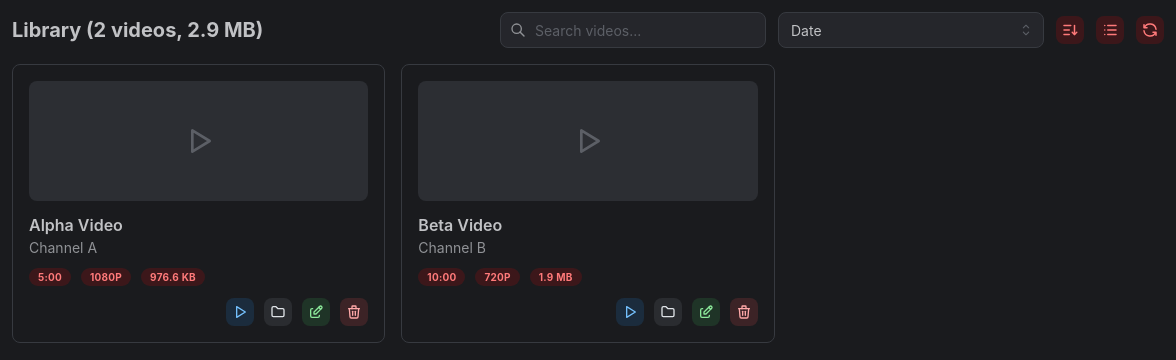
LibraryPage › filters videos when typing in the search input
The width and height of the screenshot is (1176, 360).
Expected: the text "Alpha Video" is shown, 29,215 -> 123,235
Expected: the text "Beta Video" is shown, 418,215 -> 502,235
Type "alpha" into the field with placeholder "Search videos..." at point(633, 30), box 500,12 -> 766,48
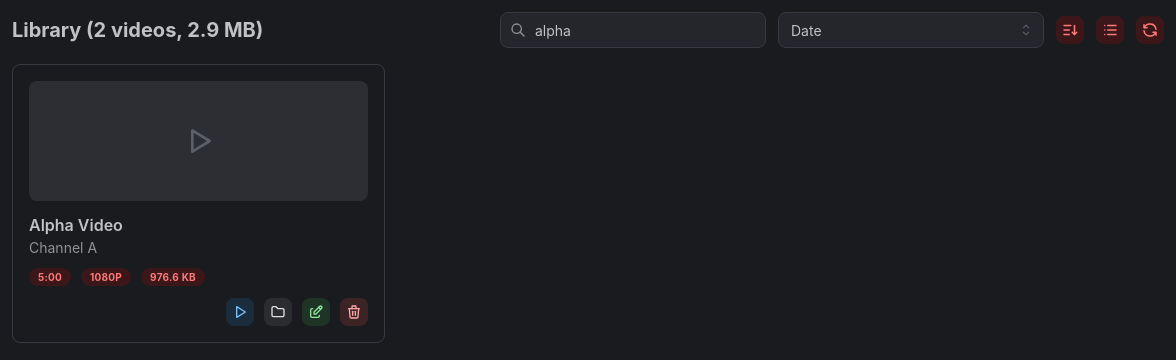
Expected: the text "Alpha Video" is shown, 29,215 -> 123,235
Expected: the text "Beta Video" is gone
